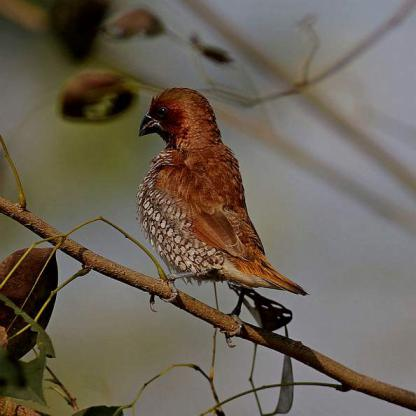Burung: (135, 88, 308, 344)
